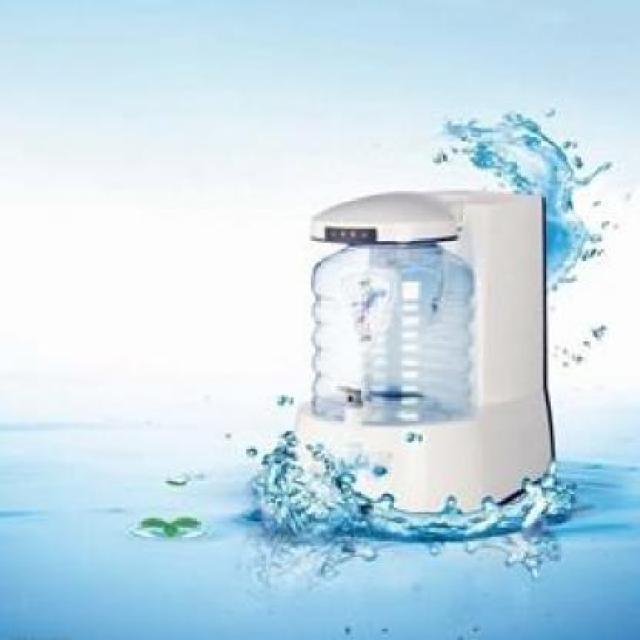cooler: (292, 184, 557, 522)
